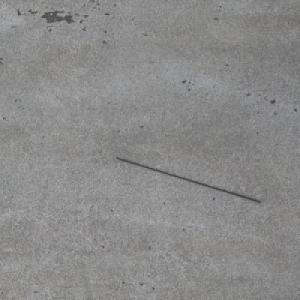LuggagePart: (114, 156, 262, 203)
